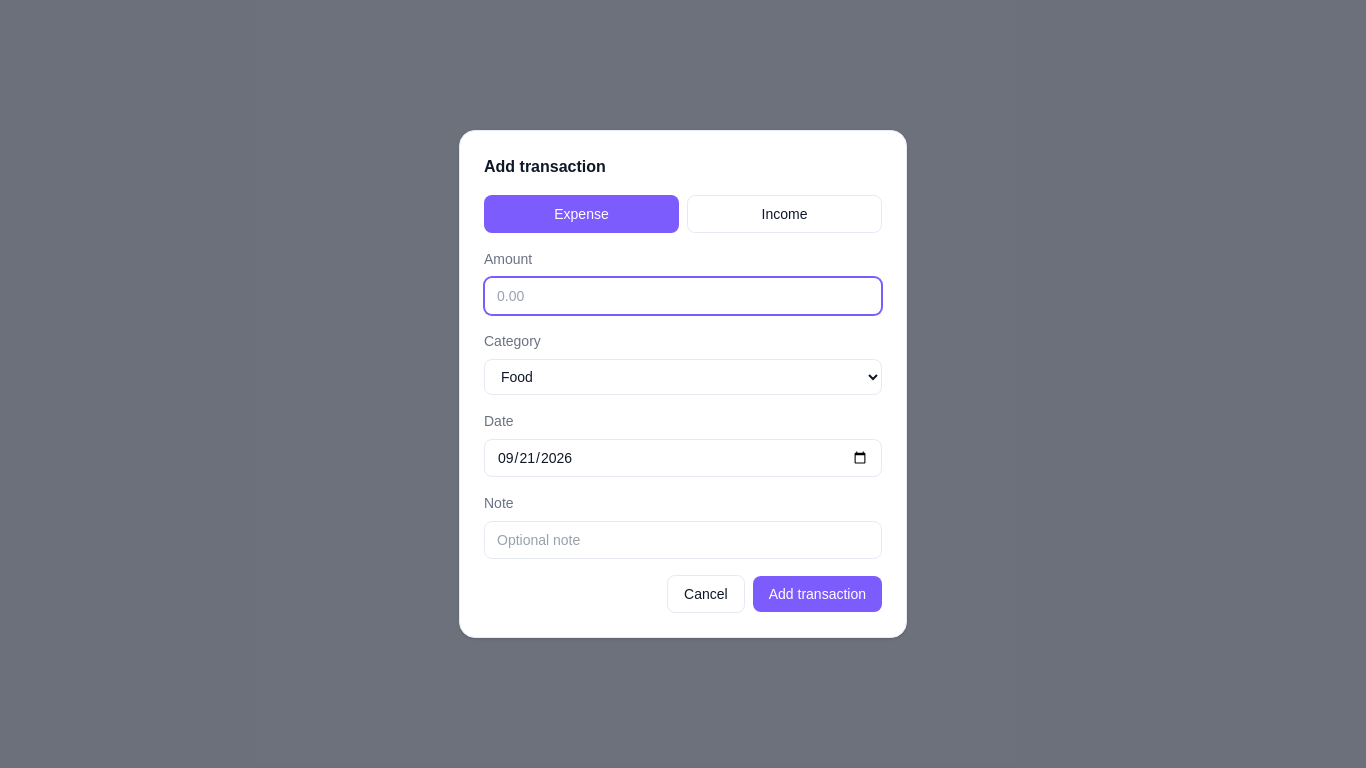
TransactionForm › shows server errors without closing
Type "10" into the field labelled "Amount".
click(683, 296); type("10")  # box [484, 277, 882, 315]
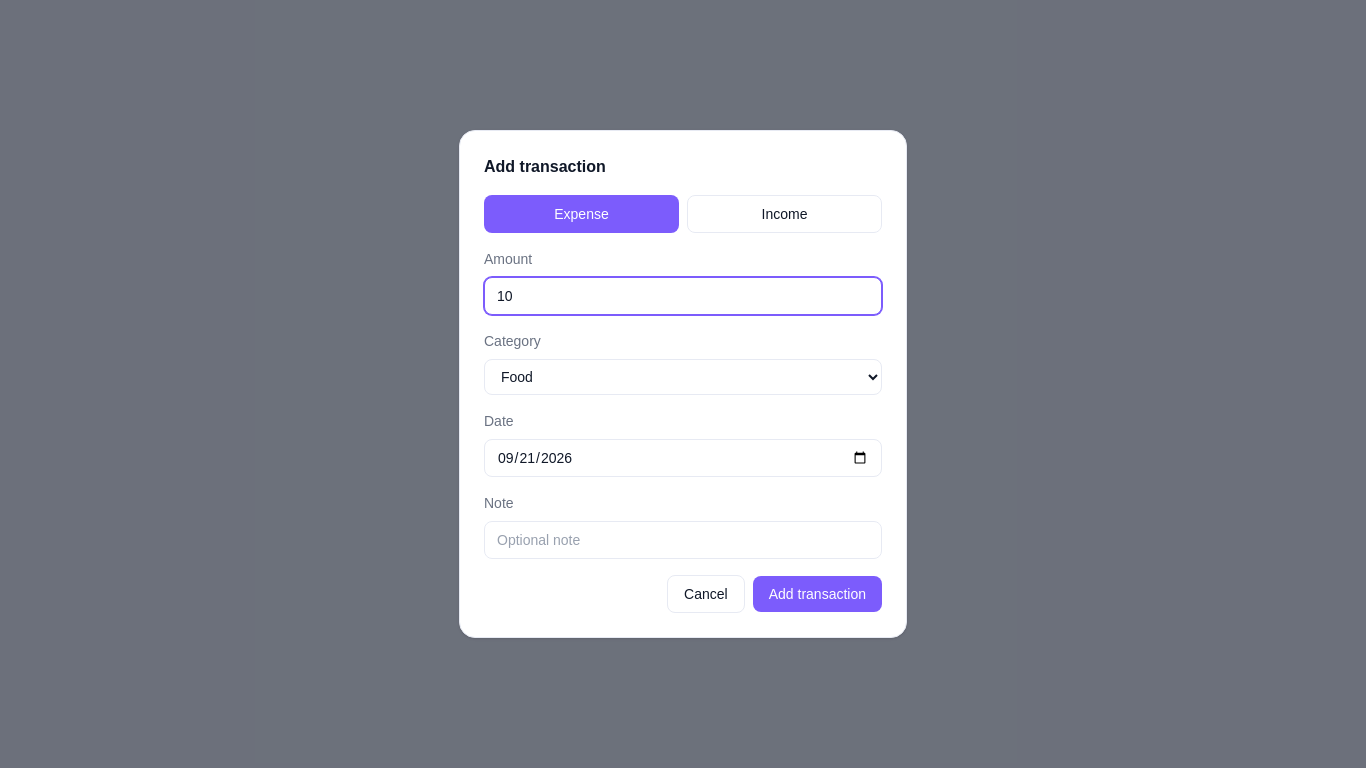
Click the button "Add transaction".
click(817, 594)  # box [753, 576, 882, 612]
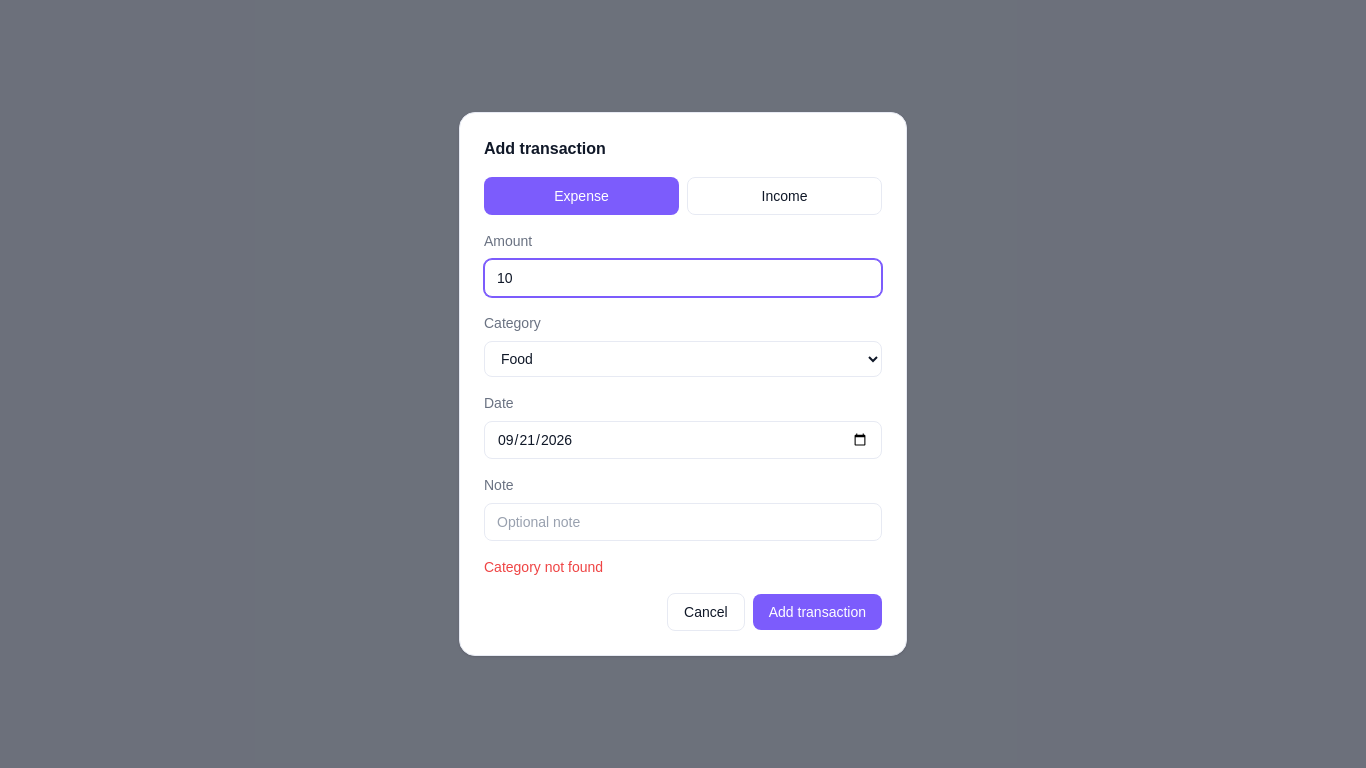
Now the message reads "Category not found", box [484, 559, 603, 575]
